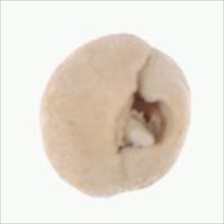L3: (116, 88, 170, 158)
L4: (39, 32, 191, 198)
